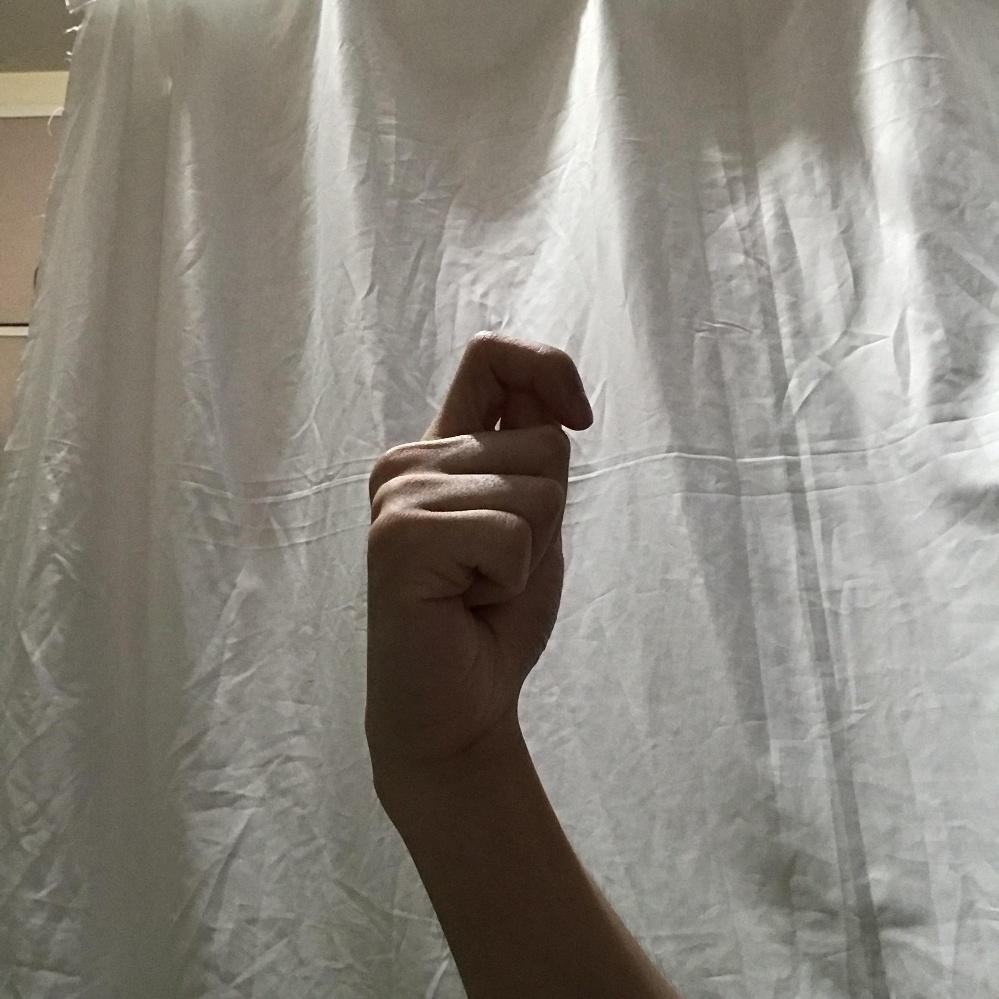t: (359, 330, 593, 782)
